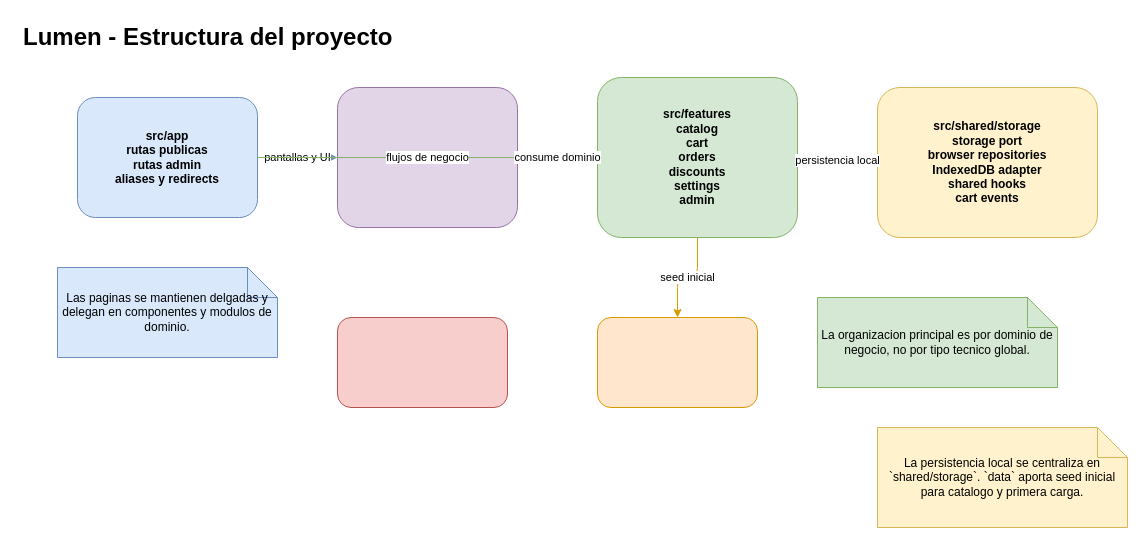
The diagram is 1145 pixels wide and 545 high, and some of its shapes have lost their labels. Here are the shapes that lost their labels. From the top down, the box of each, then its label:
(336, 86, 518, 228): src/components commerce admin layout motion ui
(336, 316, 508, 408): src/lib helpers utilidades compartidas
(596, 316, 758, 408): src/data seed data datos base
